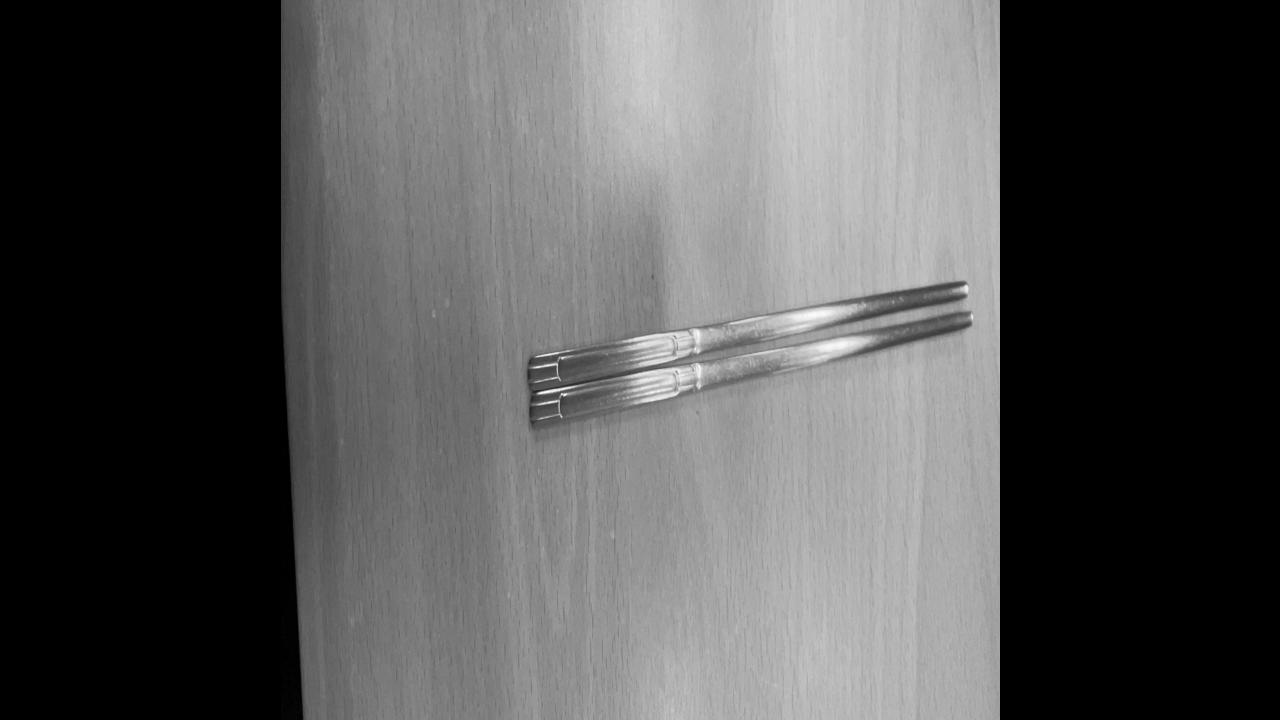chopstick: (522, 264, 974, 430)
